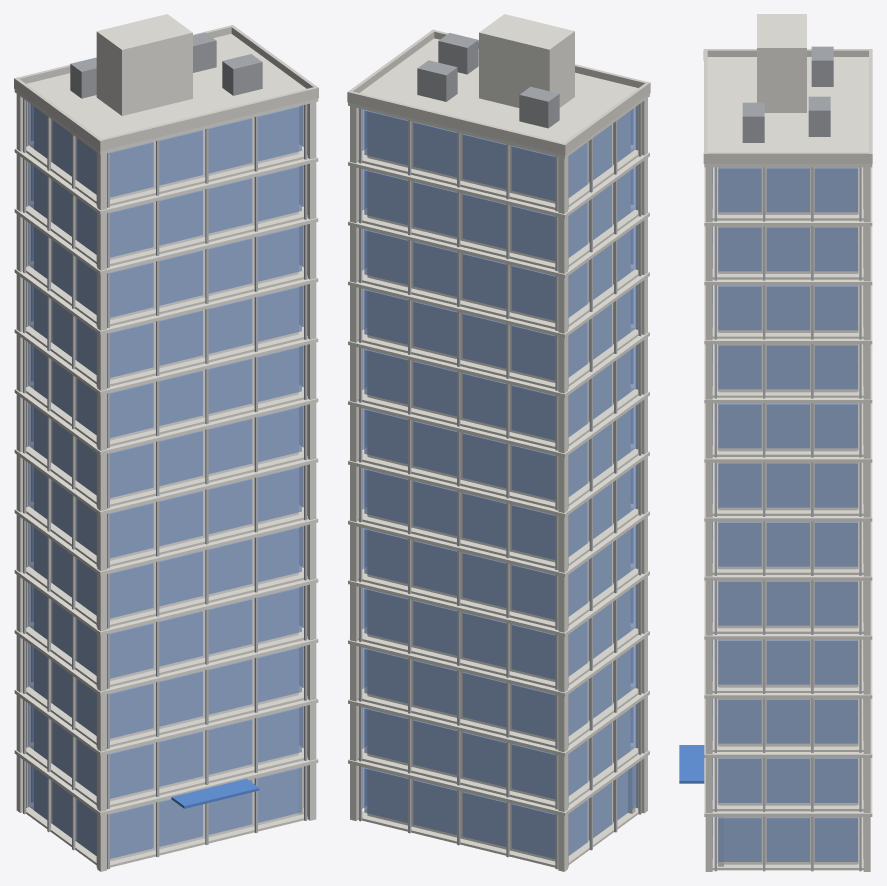
File: lake-view-residences-12f-4r.glb
The picture shows the model from 3 angles, left to right: view 1: azimuth 30°, elevation 25°; view 2: azimuth 150°, elevation 25°; view 3: azimuth 270°, elevation 25°; orthographic projection.
Visible parts, largest first — view 1: shell_penthouse, shell_roof, shell_pilaster_mp, shell_pilaster_pp, shell_pilaster_mm, wall_room_4_2_1, wall_room_11_2_1, wall_room_3_2_1, wall_room_9_2_1, wall_room_1_2_1, wall_room_2_2_1, wall_room_5_2_1 (+167 smaller); view 2: shell_roof, shell_penthouse, shell_pilaster_mm, shell_pilaster_pm, wall_room_9_1_0, wall_room_8_1_0, wall_room_0_1_0, wall_room_2_1_0, wall_room_4_1_0, wall_room_7_1_0, wall_room_10_1_0, wall_room_3_1_0 (+154 smaller); view 3: shell_roof, shell_pilaster_pp, shell_pilaster_pm, shell_penthouse, wall_room_2_3_3, wall_room_3_3_3, wall_room_4_3_3, wall_room_5_3_3, wall_room_6_3_3, wall_room_7_3_3, wall_room_8_3_3, wall_room_1_3_3 (+88 smaller).
Part boxes in pixels (x1,y1,x2,y2): shell_penthouse: (96, 14, 192, 115); shell_roof: (26, 34, 306, 138); shell_pilaster_mp: (97, 153, 106, 871); shell_pilaster_pp: (307, 102, 316, 820); shell_pilaster_mm: (16, 94, 22, 812); wall_room_4_2_1: (181, 538, 253, 603); wall_room_11_2_1: (181, 117, 253, 182); wall_room_3_2_1: (181, 598, 253, 663); wall_room_9_2_1: (181, 237, 253, 302); wall_room_1_2_1: (181, 719, 253, 783); wall_room_2_2_1: (181, 658, 253, 723); wall_room_5_2_1: (181, 478, 253, 543); shell_roof: (360, 38, 638, 142); shell_penthouse: (479, 14, 574, 107); shell_pilaster_mm: (558, 156, 567, 871); shell_pilaster_pm: (350, 106, 358, 820); wall_room_9_1_0: (367, 230, 484, 305); wall_room_8_1_0: (367, 290, 484, 365); wall_room_0_1_0: (367, 769, 484, 843); wall_room_2_1_0: (367, 649, 484, 724); wall_room_4_1_0: (367, 529, 484, 604); wall_room_7_1_0: (367, 350, 484, 425); wall_room_10_1_0: (367, 170, 484, 245); wall_room_3_1_0: (367, 589, 484, 664); shell_roof: (707, 57, 868, 152); shell_pilaster_pp: (705, 167, 712, 871); shell_pilaster_pm: (863, 167, 870, 871); shell_penthouse: (757, 14, 806, 112); wall_room_2_3_3: (719, 698, 790, 746); wall_room_3_3_3: (719, 639, 790, 687); wall_room_4_3_3: (719, 580, 790, 628); wall_room_5_3_3: (719, 521, 790, 569); wall_room_6_3_3: (719, 462, 790, 510); wall_room_7_3_3: (719, 403, 790, 451); wall_room_8_3_3: (719, 344, 790, 392); wall_room_1_3_3: (719, 758, 790, 805).
Size of what is drawn, in the model's own units: 12.2 by 42.12 by 9.5.
